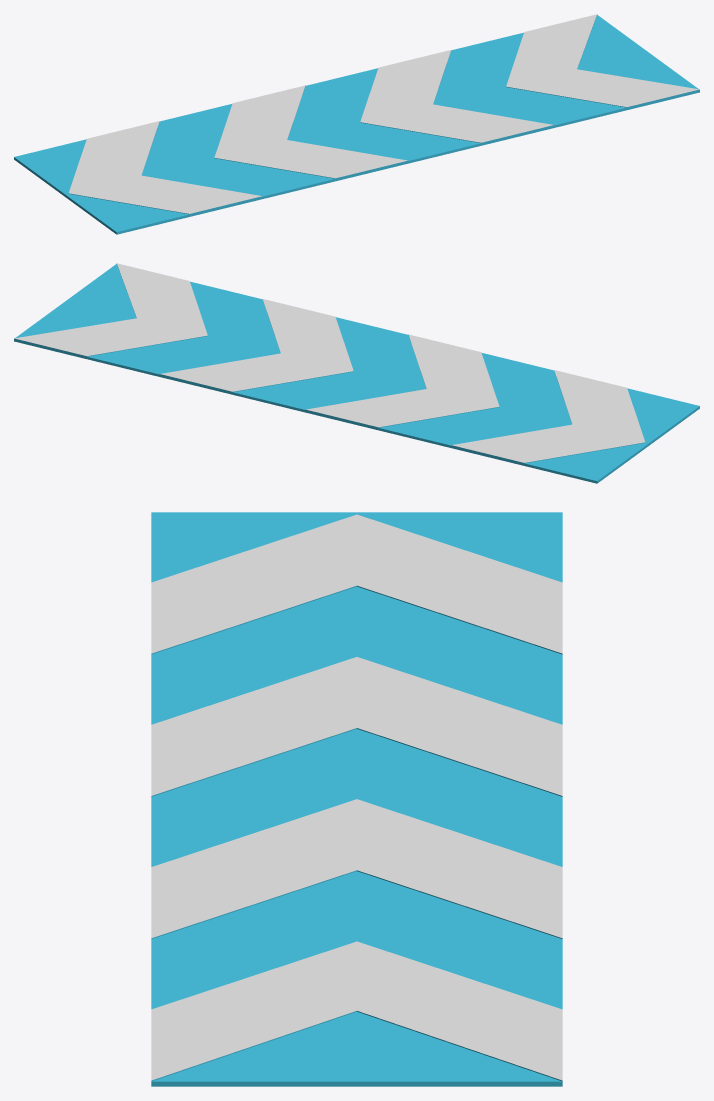
The model's file is speed boost.fbx.
The picture shows the model from 3 angles, top to bottom: view 1: azimuth 30°, elevation 25°; view 2: azimuth 150°, elevation 25°; view 3: azimuth 270°, elevation 25°; orthographic projection. The views are drawn at different scales.
Parts seen in each view (by area): view 1: Plane; view 2: Plane; view 3: Plane.
Part boxes in pixels (bbox=[...]): Plane: bbox=[14, 14, 699, 234]; Plane: bbox=[14, 263, 699, 483]; Plane: bbox=[151, 512, 562, 1086].
Bounding box in the file's own units: 678 × 3.37 × 207.
